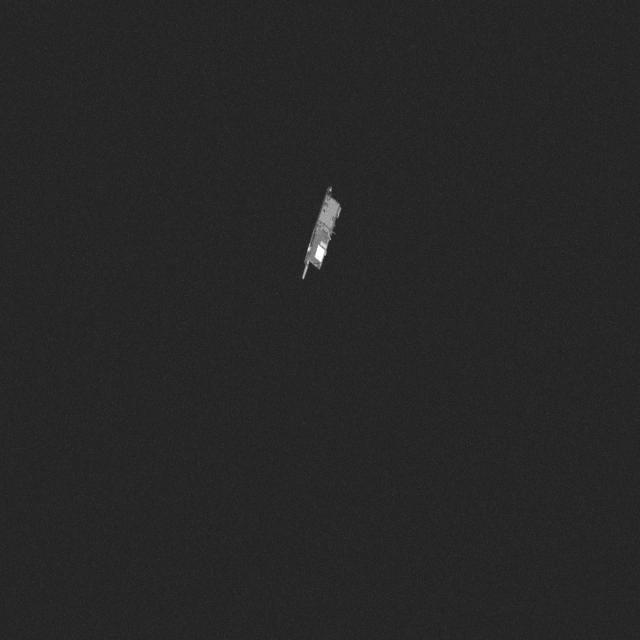medium_debris: (294, 190, 352, 280)
